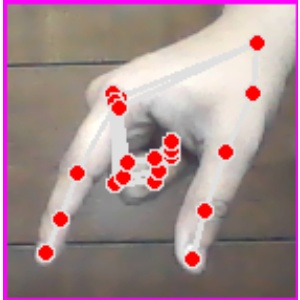Q: (7, 2, 295, 300)
